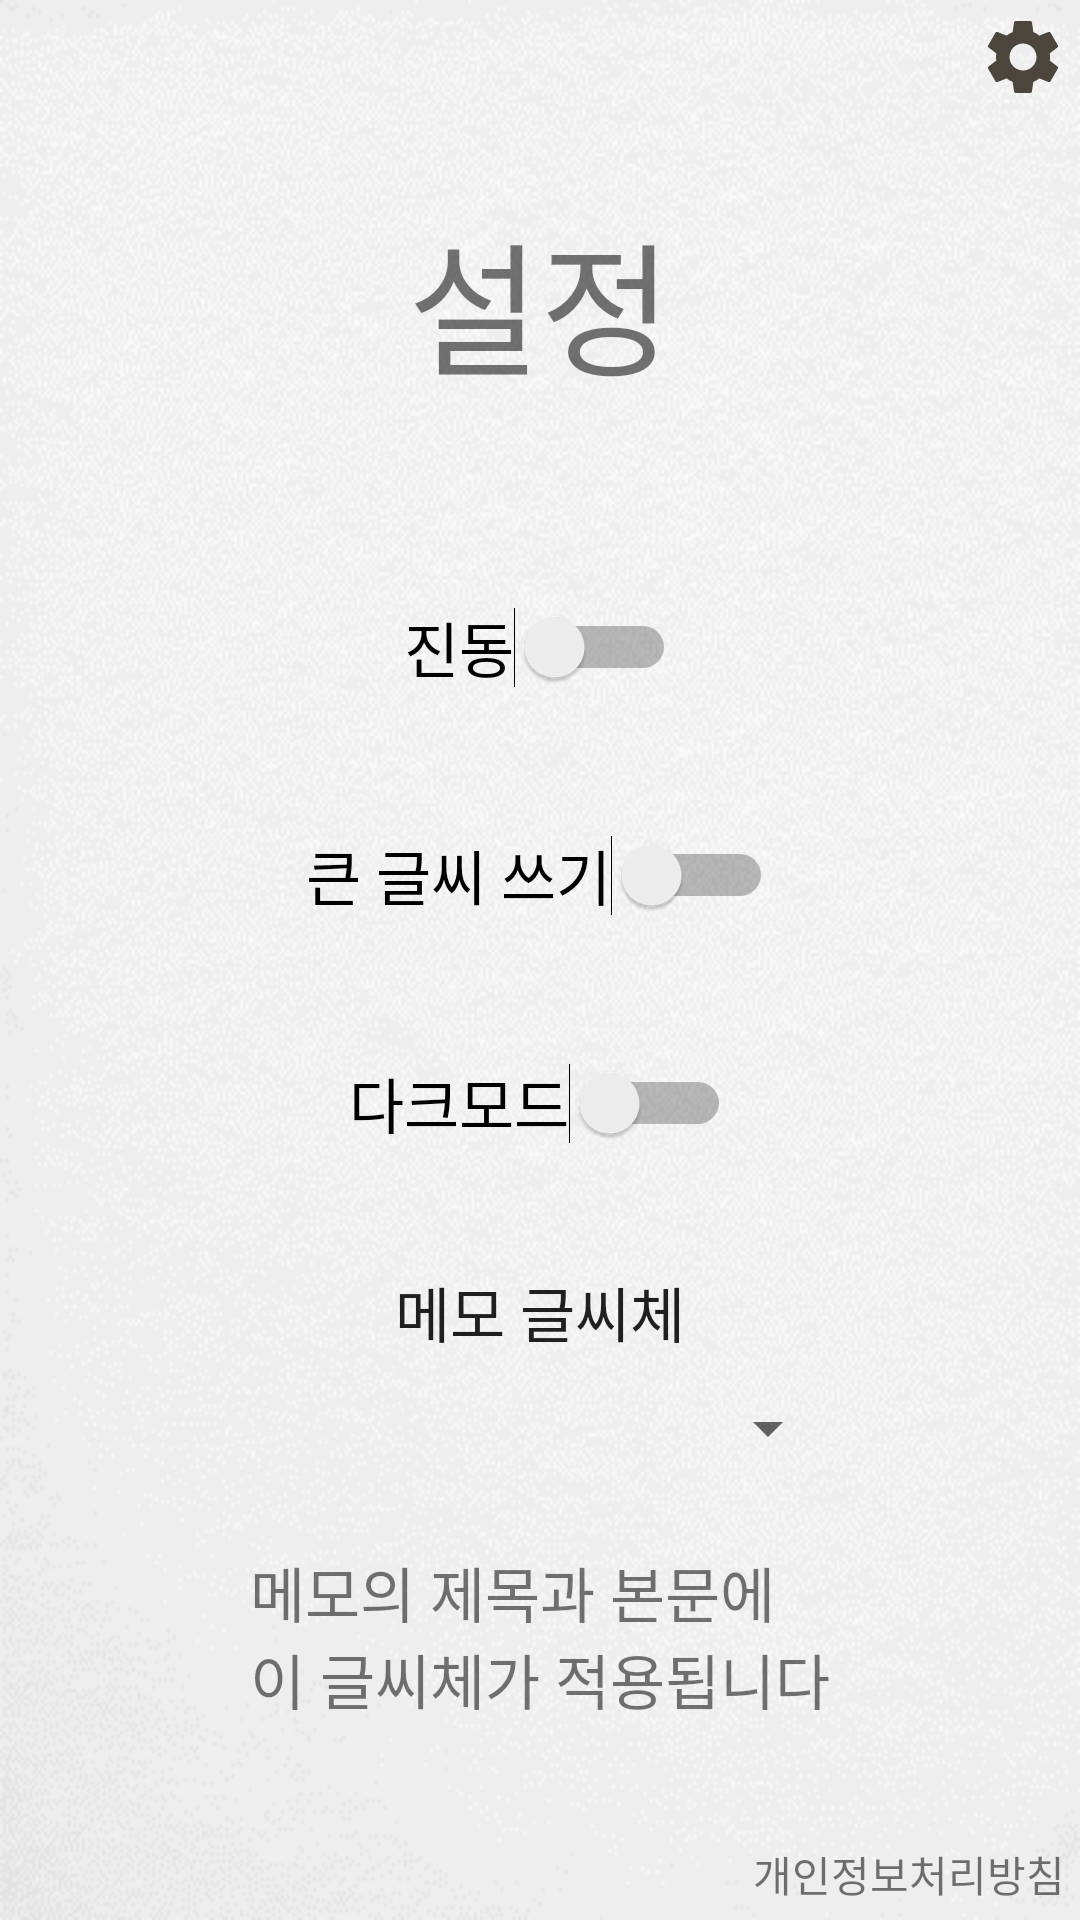

Point at icon controls on the screen. Image size 1080*1920, points as (x,y).
settings: (1023,57)
